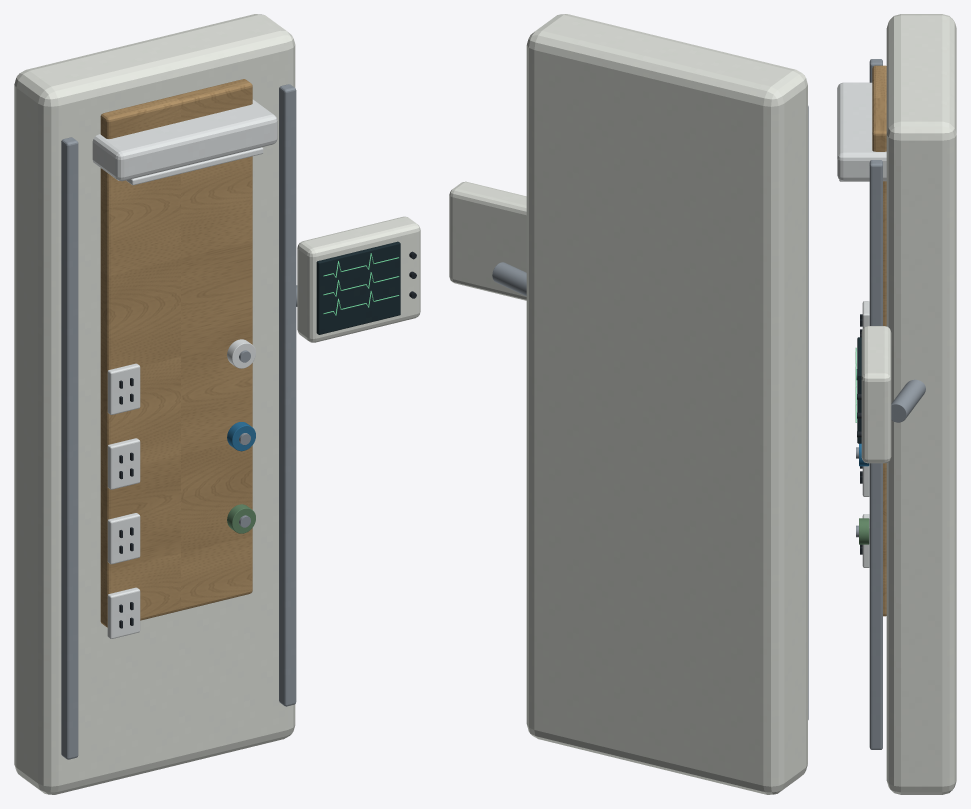
File: medical-headwall.glb
3 renders of one model, left to right at view 1: azimuth 30°, elevation 25°; view 2: azimuth 150°, elevation 25°; view 3: azimuth 270°, elevation 25°, orthographic. The views are drawn at different scales.
Visible parts, largest first — view 1: Vertical headwall chassis, Headwall wood accent, Equipment mounting rail, Equipment mounting rail.001, Reading light, Monitor housing, Monitor screen, Electrical socket plate, Electrical socket plate.001, Electrical socket plate.002, Electrical socket plate.003, Reading diffuser; view 2: Vertical headwall chassis, Monitor housing, Monitor support arm; view 3: Vertical headwall chassis, Equipment mounting rail.001, Monitor housing, Reading light, Headwall wood accent, Monitor support arm, Monitor screen, Medical gas port, Electrical socket plate, Electrical socket plate.001.
Part boxes in pixels (x1,y1,x2,y2): Vertical headwall chassis: (14,14,295,794); Headwall wood accent: (100,79,252,627); Equipment mounting rail: (61,137,78,759); Equipment mounting rail.001: (279,84,296,706); Reading light: (92,99,277,181); Monitor housing: (297,216,420,342); Monitor screen: (316,241,400,334); Electrical socket plate: (107,587,140,638); Electrical socket plate.001: (107,513,140,564); Electrical socket plate.002: (107,438,140,489); Electrical socket plate.003: (107,363,140,414); Reading diffuser: (126,147,263,185); Vertical headwall chassis: (526,14,807,794); Monitor housing: (449,181,526,300); Monitor support arm: (492,262,526,296); Vertical headwall chassis: (886,14,956,794); Equipment mounting rail.001: (869,160,882,749); Monitor housing: (861,326,891,463); Reading light: (837,82,886,181); Headwall wood accent: (872,65,886,616); Monitor support arm: (891,379,925,422); Monitor screen: (857,337,861,443); Medical gas port: (859,518,869,544); Electrical socket plate: (862,514,869,567); Electrical socket plate.001: (862,463,869,496).
Bounding box in the file's own units: 0.97 × 1.8 × 0.29.
9 materials, 9 textured.
